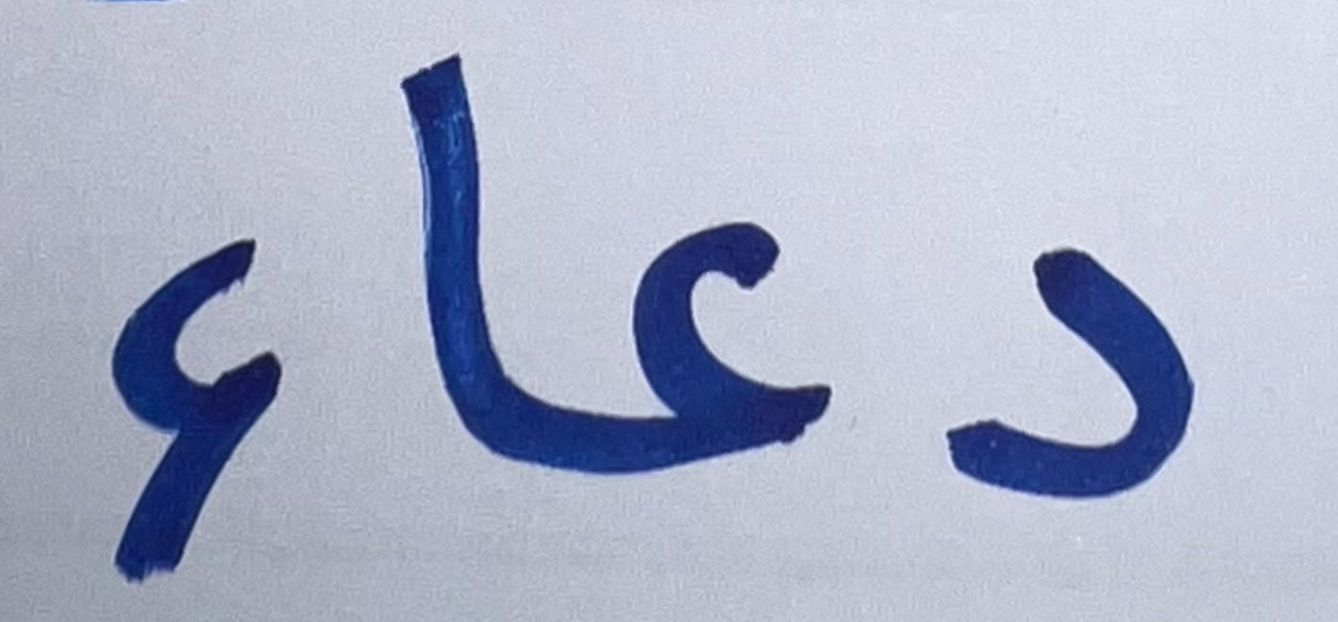ain: (581, 193, 863, 520)
alef: (351, 47, 562, 500)
dal: (920, 186, 1233, 533)
hamza: (44, 207, 312, 597)
